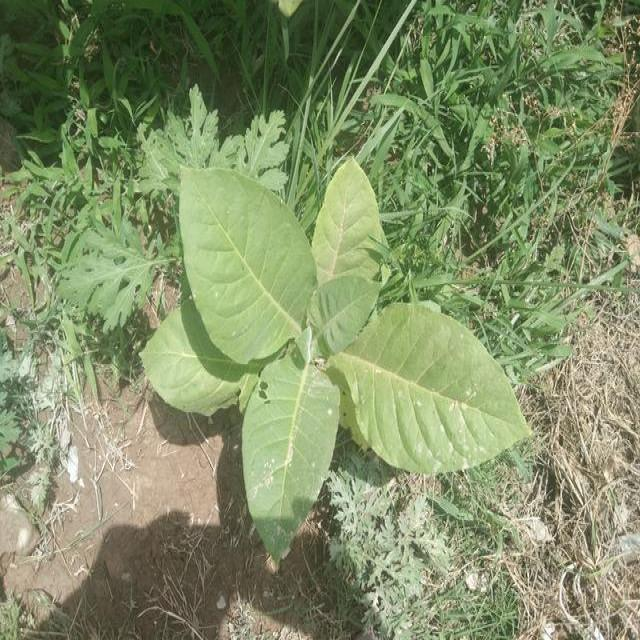crop: (141, 148, 539, 559)
